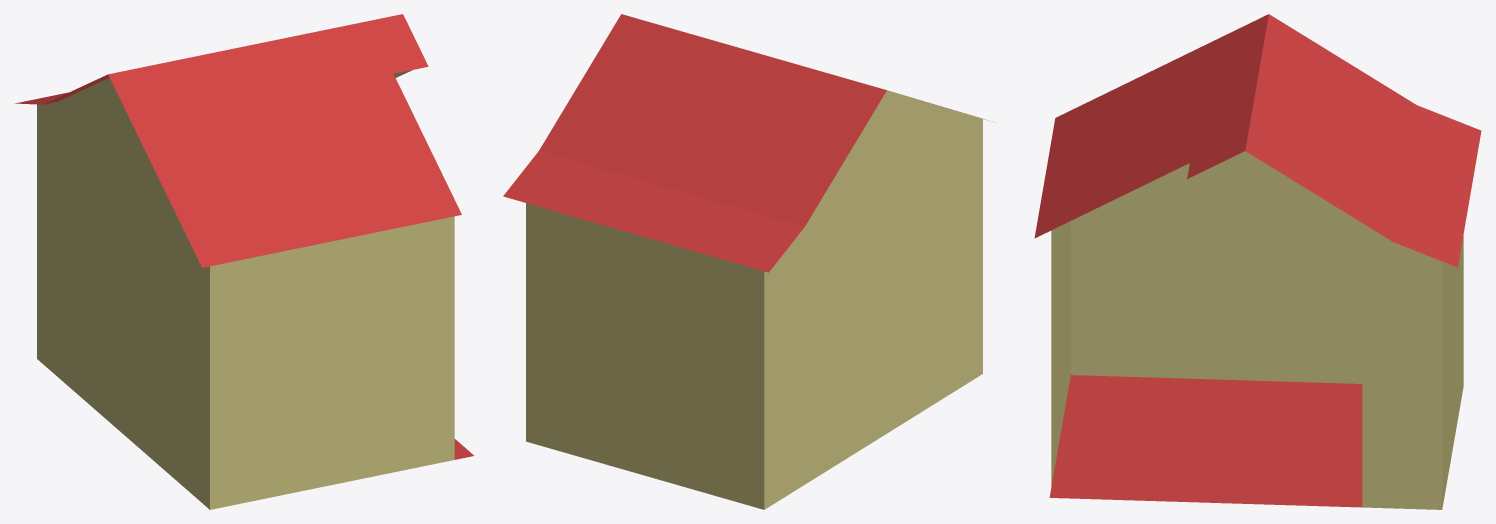
3 renders of one model, left to right at view 1: azimuth 30°, elevation 25°; view 2: azimuth 150°, elevation 25°; view 3: azimuth 270°, elevation 25°, orthographic. The views are drawn at different scales.
Bounding box in the file's own units: 10.58 × 13.31 × 11.83.
